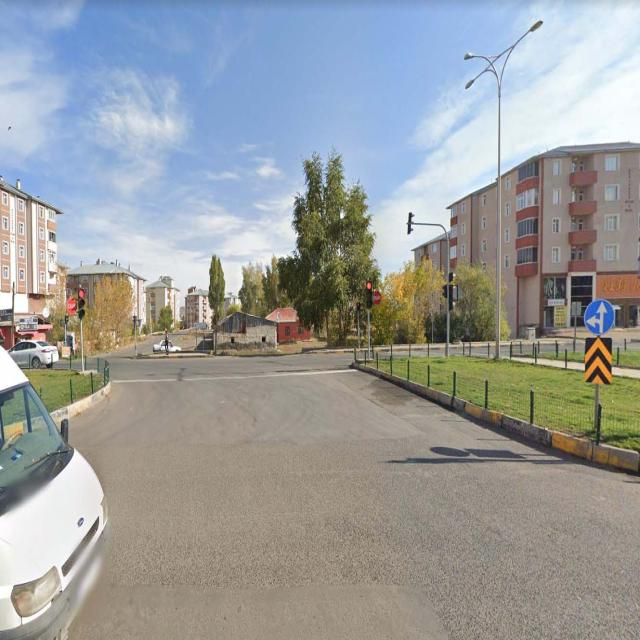dur: (67, 298, 77, 314), (374, 291, 381, 306)
ilerisol: (584, 298, 614, 335)
kirmizi: (78, 288, 85, 318), (366, 282, 371, 307)
